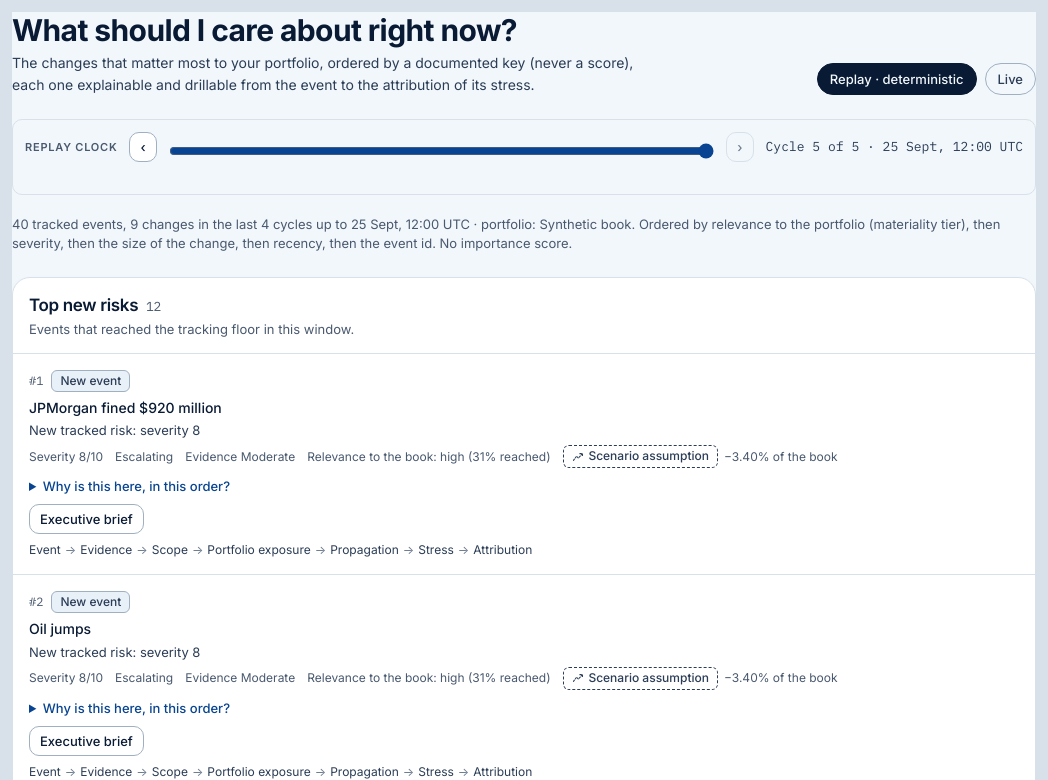
Test case: TodayPage › steps the replay clock and asks for that cycle
Expected: the text "Cycle 5 of 5 · 25 Sept, 12:00 UTC" is shown, [766,138,1023,157]
Click the button named "previous cycle" at [143, 147], box [130,132,157,162]
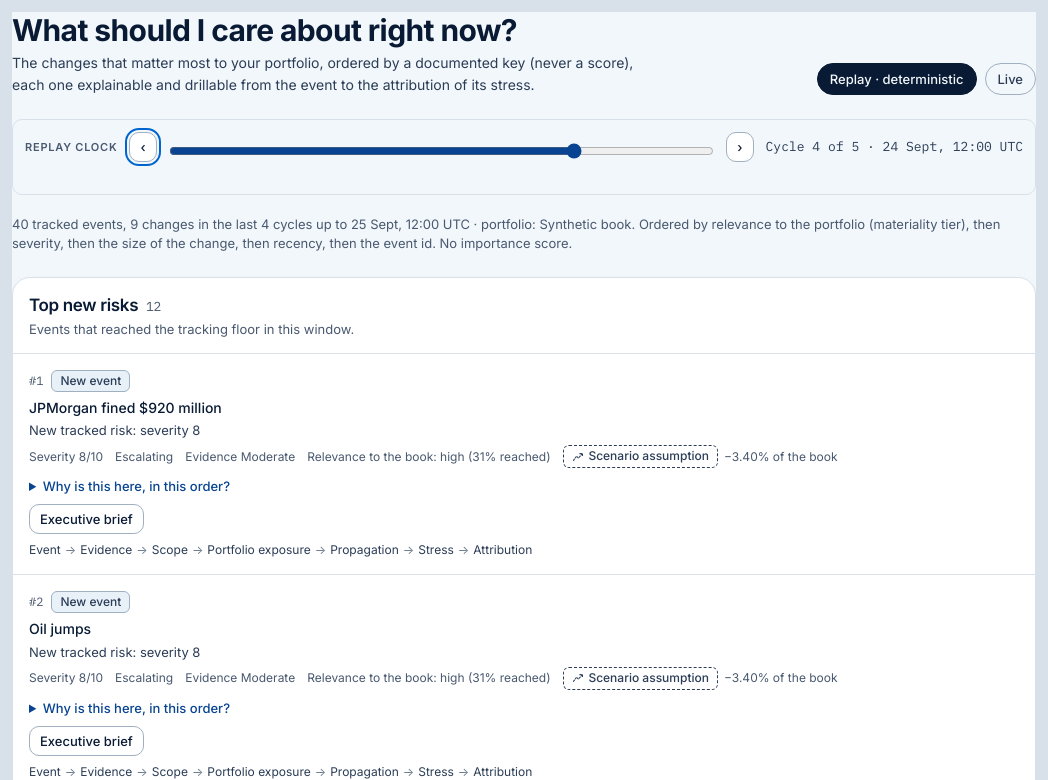
Result: the text "Cycle 4 of 5 · 24 Sept, 12:00 UTC" is shown at [766,138,1023,157]
